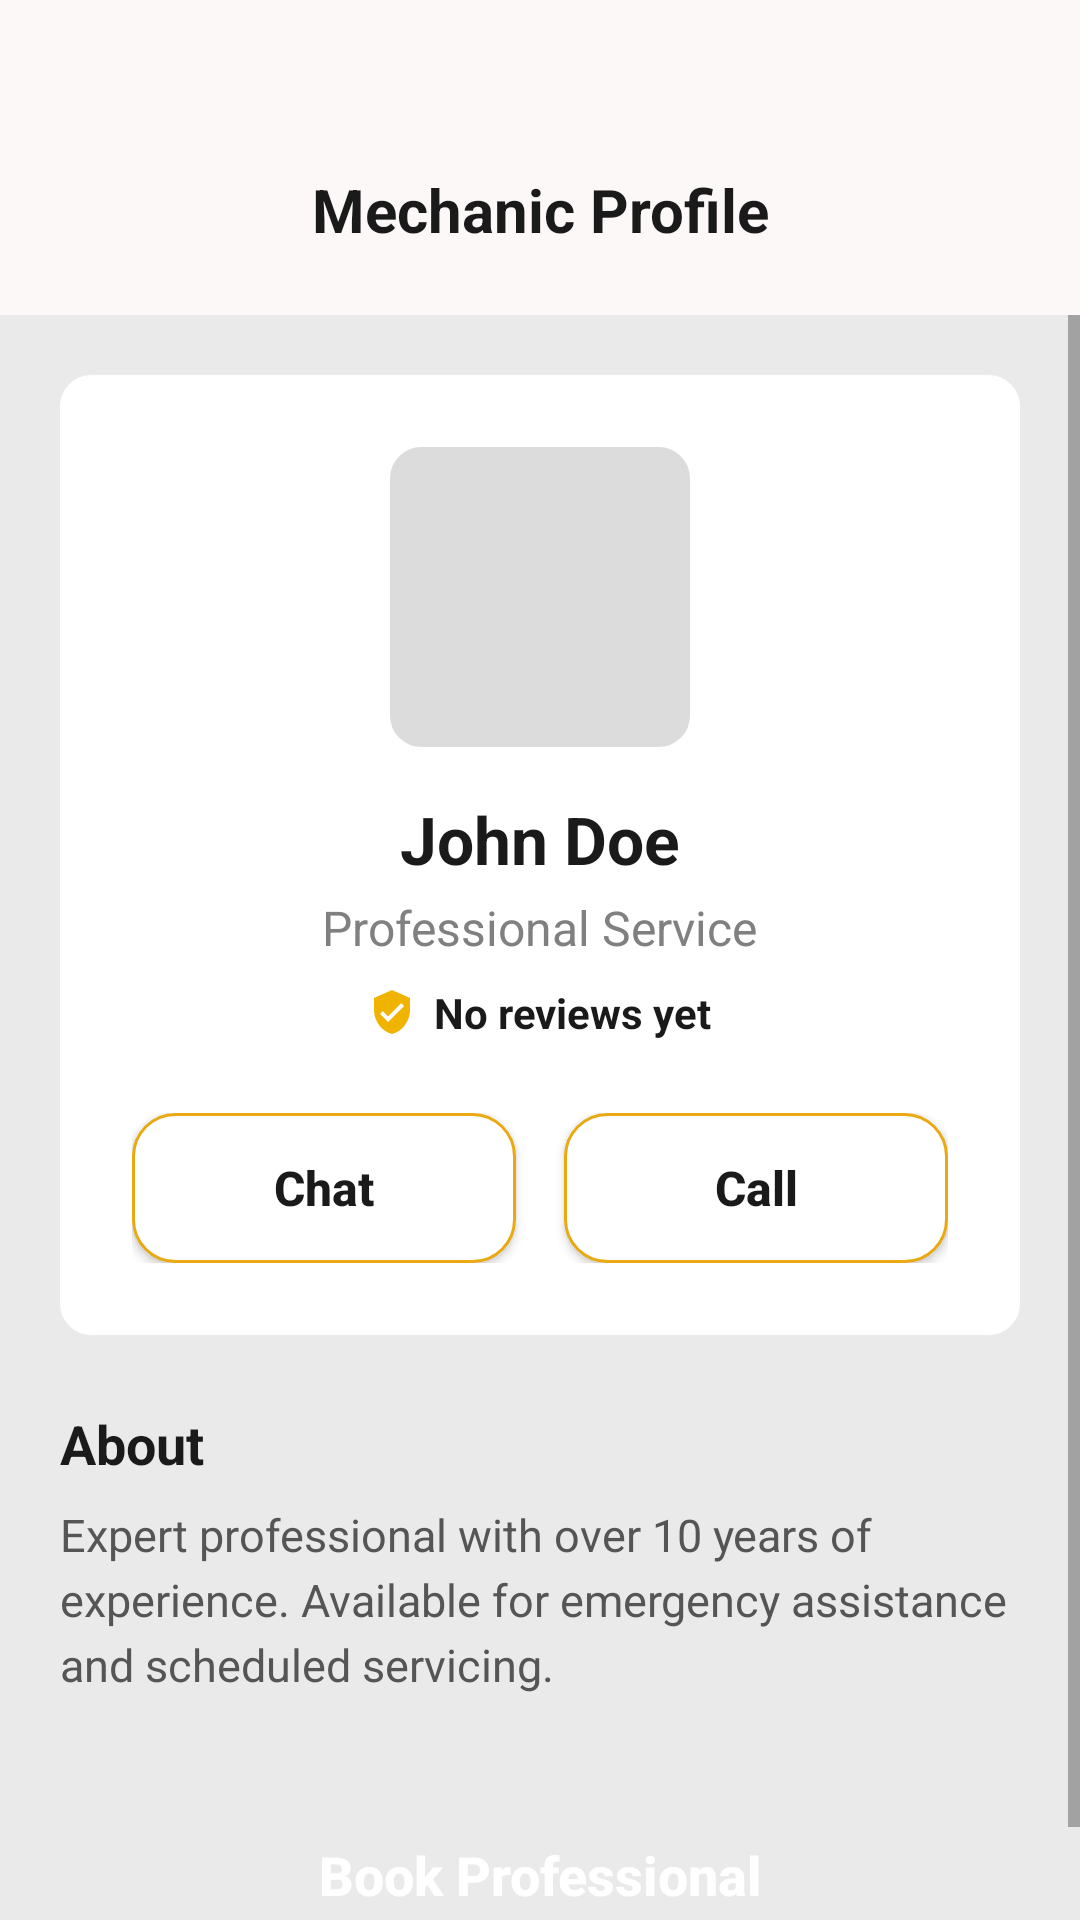

Icon bounding boxes for this 1080x1920 phone screenshot, format (x1, y1, x2, y2):
verified safe: (374, 990, 410, 1034)
